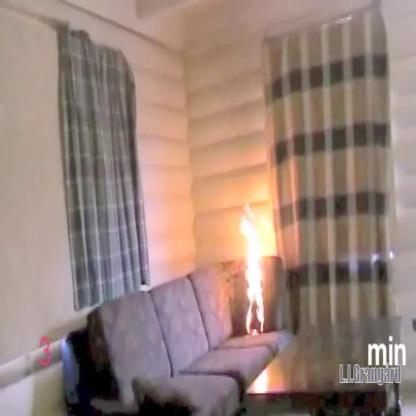fire: (236, 208, 268, 342)
